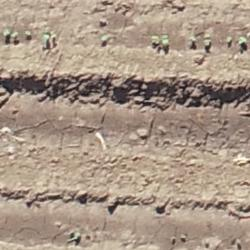cotton: (162, 35, 169, 44), (189, 35, 196, 42), (238, 36, 245, 42), (3, 29, 9, 36), (100, 34, 108, 39), (204, 38, 210, 44), (44, 36, 50, 40), (227, 37, 232, 41), (25, 30, 30, 34), (13, 33, 19, 36)
